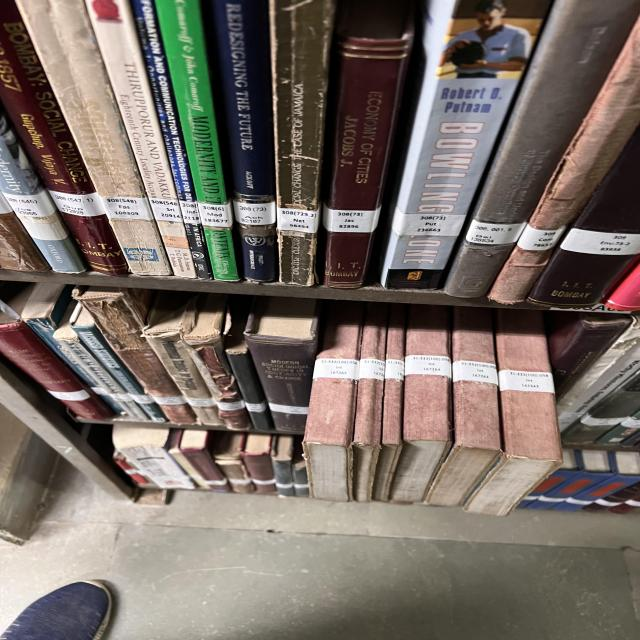Book: (445, 0, 640, 298), (382, 0, 552, 289), (488, 20, 640, 304), (17, 0, 172, 275), (87, 0, 197, 278), (323, 0, 413, 289), (155, 0, 240, 281), (132, 0, 213, 279), (465, 309, 562, 516), (527, 131, 640, 306), (210, 0, 277, 282), (270, 0, 335, 286), (73, 286, 197, 424), (425, 306, 502, 506), (0, 116, 87, 272), (22, 284, 122, 411), (390, 305, 452, 501), (303, 301, 363, 501), (70, 304, 167, 422), (0, 320, 113, 420), (143, 291, 223, 425), (243, 296, 318, 434), (180, 294, 252, 430), (557, 315, 640, 431), (55, 324, 147, 420), (548, 311, 632, 398), (352, 304, 387, 501), (373, 304, 407, 501), (225, 296, 273, 430), (562, 371, 640, 444), (113, 425, 195, 489), (553, 451, 640, 511), (528, 450, 613, 510), (0, 192, 50, 271), (518, 449, 580, 508), (180, 430, 230, 492), (213, 432, 255, 494), (167, 429, 210, 489), (240, 434, 277, 494), (605, 264, 640, 311), (597, 411, 640, 445), (595, 482, 640, 514), (272, 435, 295, 496), (113, 451, 148, 485), (292, 445, 310, 496)
Label: (3, 190, 67, 240), (560, 228, 640, 255), (392, 208, 465, 236), (465, 219, 527, 245), (323, 205, 380, 232), (48, 190, 105, 216), (98, 196, 153, 220), (517, 225, 567, 251), (277, 208, 320, 234), (233, 200, 277, 225), (405, 355, 452, 378), (313, 359, 360, 380), (198, 201, 233, 228), (148, 198, 183, 222), (178, 200, 202, 224), (358, 359, 385, 380), (268, 402, 308, 415), (48, 390, 90, 401), (385, 359, 405, 380), (152, 396, 187, 405), (217, 400, 245, 411), (245, 401, 267, 412), (185, 398, 215, 406)
